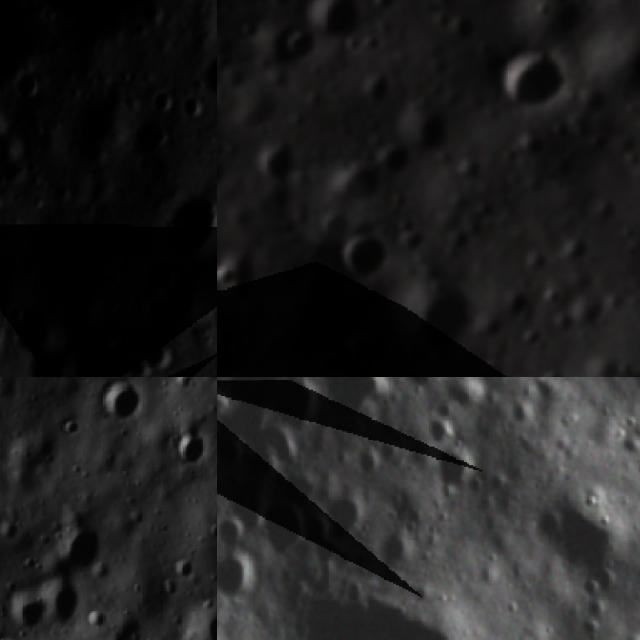crater: (542, 498, 636, 606), (294, 596, 485, 640), (392, 277, 475, 361), (490, 42, 571, 114), (310, 377, 396, 429), (265, 379, 330, 441), (323, 157, 392, 215), (160, 187, 217, 256), (395, 101, 458, 157), (50, 520, 110, 578), (334, 231, 396, 284), (299, 0, 367, 47), (258, 498, 307, 560), (322, 489, 372, 547), (434, 448, 484, 501), (250, 139, 305, 185), (128, 114, 173, 170), (16, 297, 58, 357), (217, 550, 262, 604), (94, 377, 143, 424), (270, 24, 319, 70), (42, 577, 86, 628), (9, 584, 50, 634), (416, 411, 459, 455), (217, 506, 253, 555), (13, 60, 51, 104), (140, 334, 178, 373), (171, 274, 202, 318), (217, 425, 242, 478), (172, 430, 206, 468), (187, 599, 217, 640), (217, 255, 245, 292), (29, 353, 71, 377), (171, 554, 203, 584), (180, 94, 216, 120), (217, 153, 234, 199), (157, 88, 180, 121), (201, 52, 217, 98), (0, 518, 23, 546), (61, 412, 79, 440), (200, 517, 217, 544)
